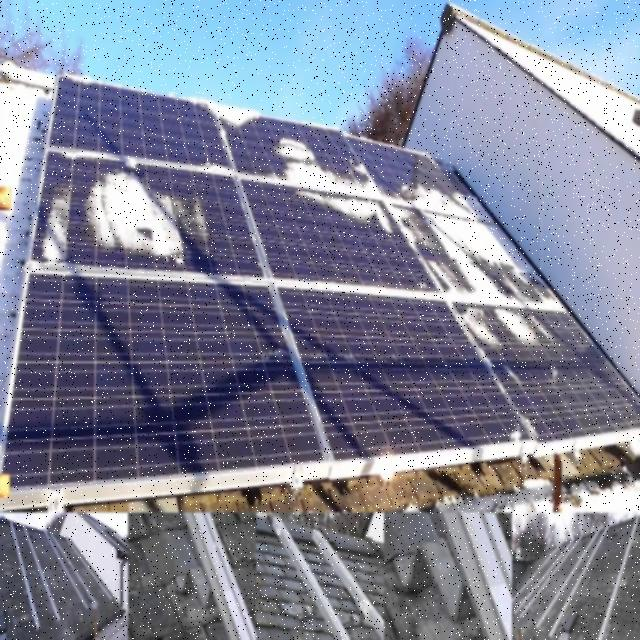snow covered: (31, 81, 551, 315)
